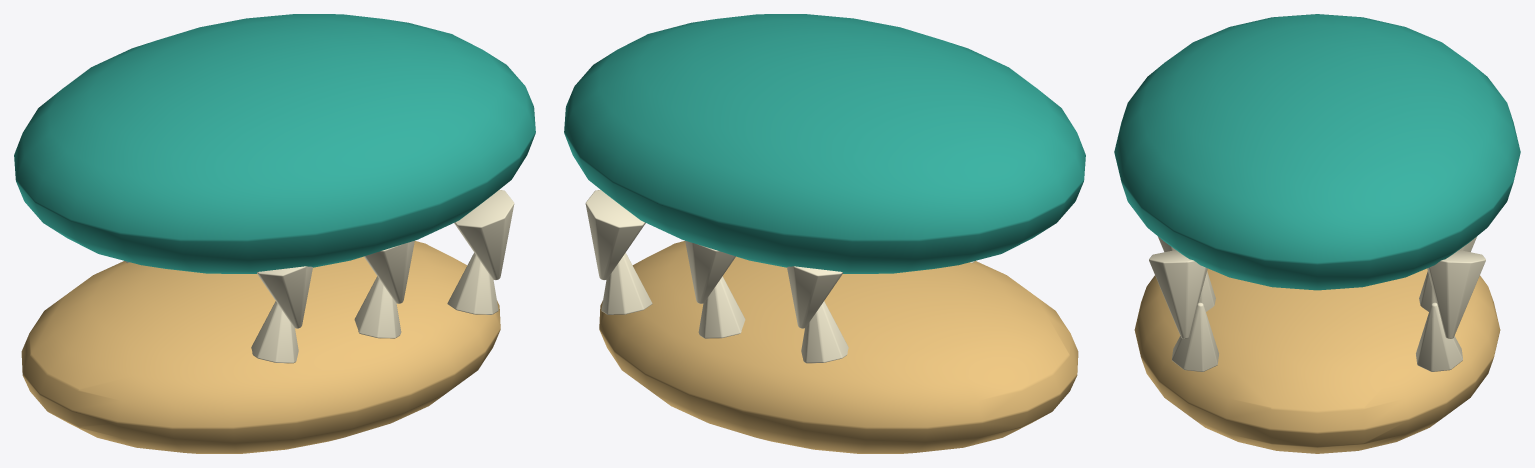
Rendered from jaw_nipper.glb.
3 renders of one model, left to right at view 1: azimuth 30°, elevation 25°; view 2: azimuth 150°, elevation 25°; view 3: azimuth 270°, elevation 25°, orthographic. The views are drawn at different scales.
Visible parts, largest first — view 1: jaw_nipper; view 2: jaw_nipper; view 3: jaw_nipper.
Boxes of the visible parts, x1,y1,x2,y2 form: jaw_nipper: [14, 14, 535, 453]; jaw_nipper: [564, 14, 1085, 453]; jaw_nipper: [1114, 14, 1520, 453].
Bounding box in the file's own units: 1.04 × 0.73 × 0.7992.
